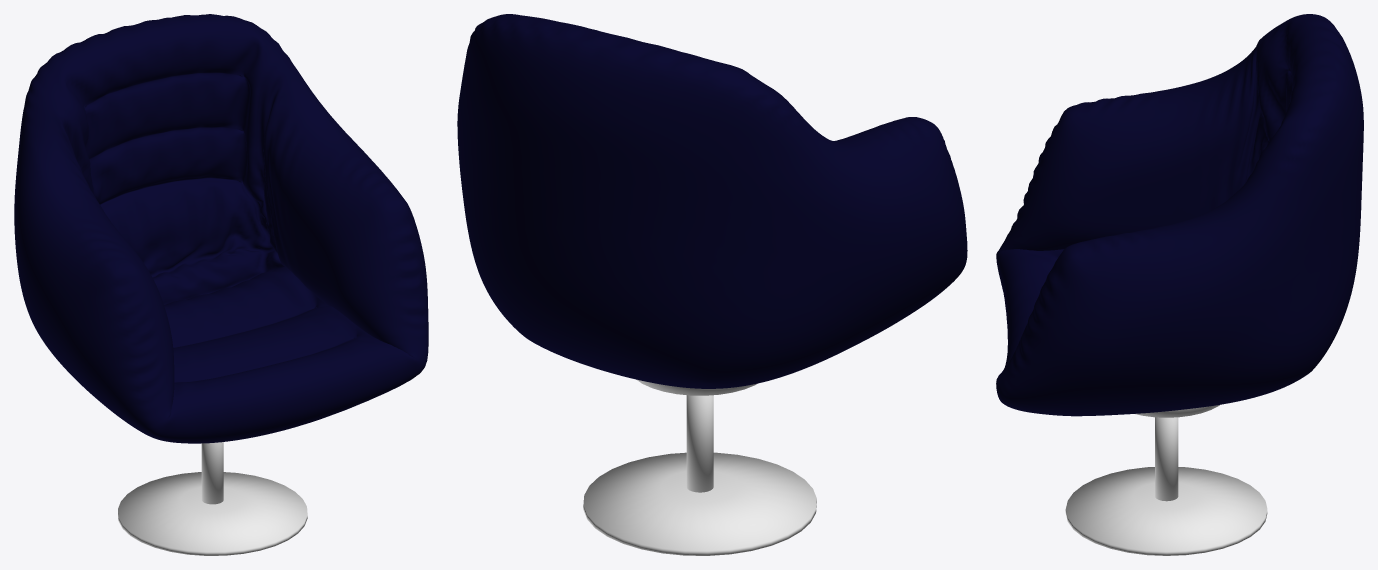
File: chair2.glb
3 views of the same model, side by side, from view 1: azimuth 30°, elevation 25°; view 2: azimuth 150°, elevation 25°; view 3: azimuth 270°, elevation 25° (orthographic). The views are drawn at different scales.
Visible parts, largest first — view 1: Cube, Cylinder.002; view 2: Cube, Cylinder.002; view 3: Cube, Cylinder.002.
Boxes of the visible parts, left/top/right/bottom form: Cube: left=14, top=14, right=428, bottom=443; Cylinder.002: left=118, top=442, right=307, bottom=555; Cube: left=457, top=14, right=967, bottom=388; Cylinder.002: left=583, top=379, right=816, bottom=555; Cube: left=996, top=14, right=1363, bottom=416; Cylinder.002: left=1065, top=405, right=1267, bottom=555.
Size of the model in its own units: 2.46 by 2.91 by 2.1.
